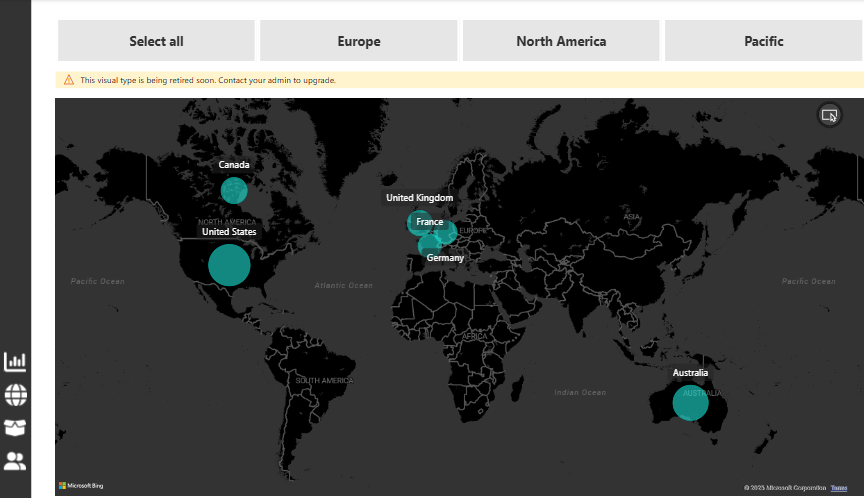

The page's visual inventory and layout, read from the dashboard file:
{"tool":"powerbi","page":{"name":"Map","canvas":[1280,720],"ordinal":1},"visuals":[{"type":"shape","box":[0,0,45,720],"z":0},{"type":"actionButton","box":[2,502.6,44.6,40.3],"z":1000,"group":"g1"},{"type":"map","fields":{"Category":["Territory Lookup.Country"],"Size":["Measure Table.Total Orders"]},"box":[74.9,99.4,1175,620.6],"z":1000},{"type":"slicer","fields":{"Values":["Territory Lookup.Continent"]},"box":[54.7,20.2,1213.9,79.2],"z":2000},{"type":"actionButton","box":[2,597.6,44.6,40.3],"z":2000,"group":"g1"},{"type":"actionButton","box":[2,645.2,44.6,40.3],"z":3000,"group":"g1"},{"type":"group","id":"g1","title":"Navigation Buttons","box":[2,502.6,44.6,182.9],"z":3000},{"type":"actionButton","box":[3.4,550.1,41.8,40.3],"z":4000,"group":"g1"}]}

Visuals, with their boxes on the page's 1280x720 design canvas (x1, y1, x2, y2). These are canvas units, not pixel positions in the 864x498 screenshot, which may show the page scaled, cropped or inside an application window:
shape: [x1=0, y1=0, x2=45, y2=720]
actionButton: [x1=2, y1=503, x2=47, y2=543]
map - Territory Lookup.Country x Measure Table.Total Orders: [x1=75, y1=99, x2=1250, y2=720]
slicer - Territory Lookup.Continent: [x1=55, y1=20, x2=1269, y2=99]
actionButton: [x1=2, y1=598, x2=47, y2=638]
actionButton: [x1=2, y1=645, x2=47, y2=686]
"Navigation Buttons" group: [x1=2, y1=503, x2=47, y2=686]
actionButton: [x1=3, y1=550, x2=45, y2=590]
